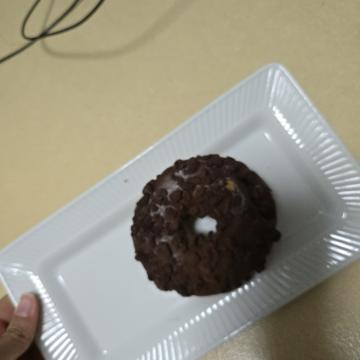doughnut: (138, 70, 299, 239)
